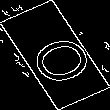O_NE: (15, 24, 95, 86)
